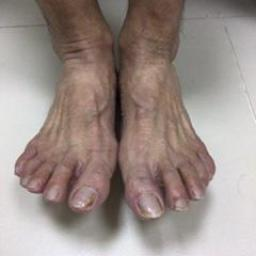Front View -Both Feet-: (10, 11, 224, 226)
